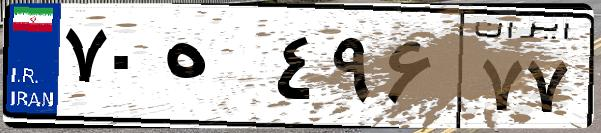0: (110, 28, 158, 98)
4: (270, 28, 330, 110)
6: (385, 28, 445, 110)
7: (57, 26, 110, 100), (475, 38, 525, 113), (525, 38, 570, 115)
9: (330, 28, 385, 110)
ه: (158, 20, 270, 120)
